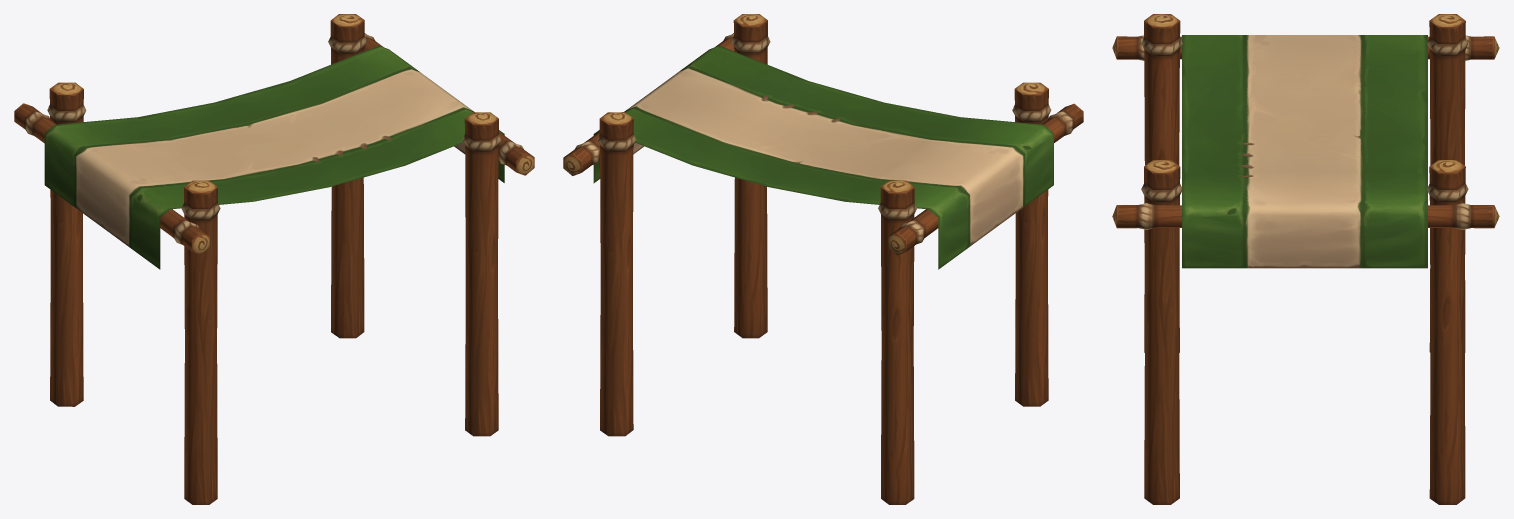
File: Market_tent_green.fbx
The picture shows the model from 3 angles, left to right: view 1: azimuth 30°, elevation 25°; view 2: azimuth 150°, elevation 25°; view 3: azimuth 270°, elevation 25°; orthographic projection. The views are drawn at different scales.
Visible parts, largest first — view 1: Market_tent_green; view 2: Market_tent_green; view 3: Market_tent_green.
Boxes of the visible parts, x1,y1,x2,y2 form: Market_tent_green: (14,14,534,504); Market_tent_green: (563,14,1083,504); Market_tent_green: (1112,14,1499,504).
Size of the model in its own units: 3.43 by 2.99 by 3.13.
